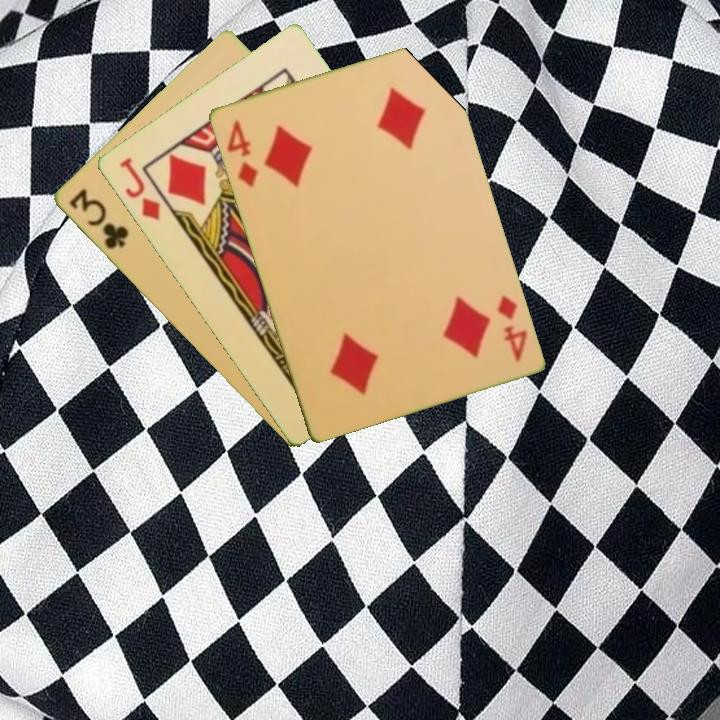3c: (64, 184, 131, 252)
4d: (223, 115, 260, 190), (493, 291, 530, 365)
Jd: (115, 154, 163, 224)
